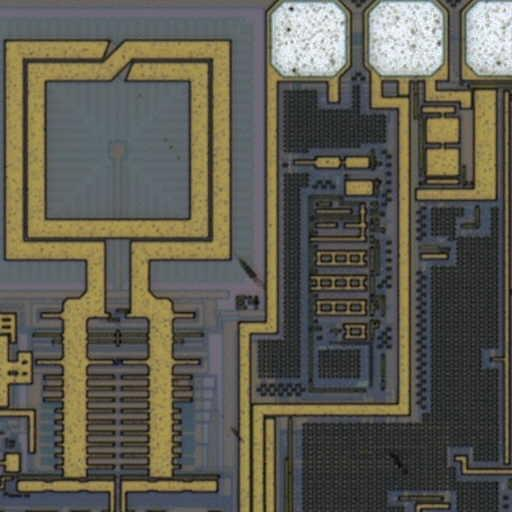SCRATCH: (128, 84, 424, 488)
